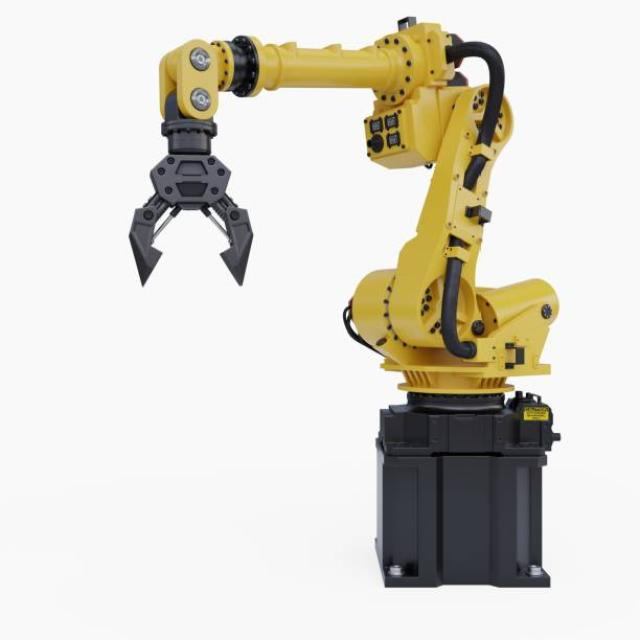Robotic-arm: (109, 9, 578, 407)
